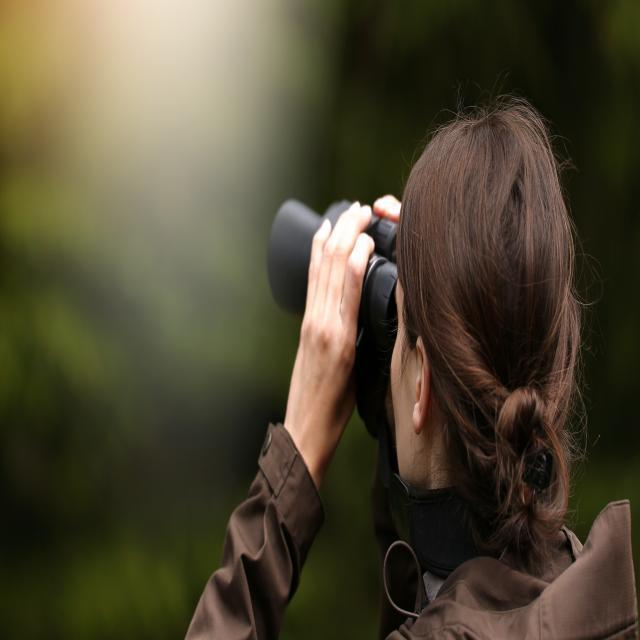Binocular: (247, 170, 427, 346)
